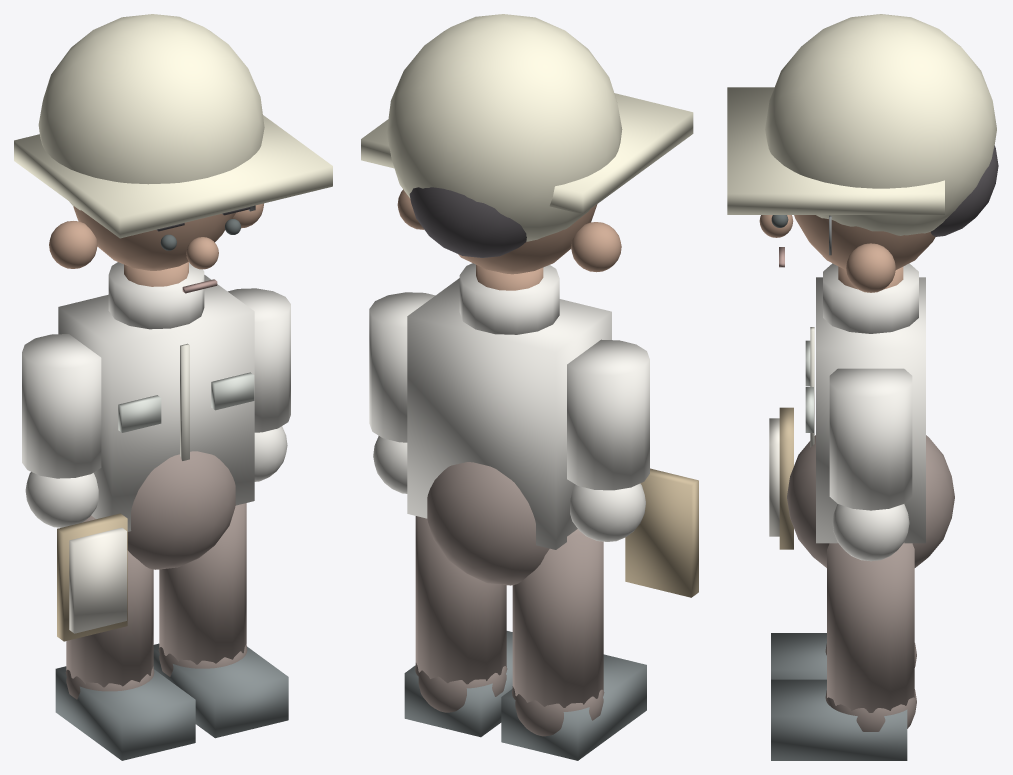
Rendered from mercy_person_11.glb.
3 renders of one model, left to right at view 1: azimuth 30°, elevation 25°; view 2: azimuth 150°, elevation 25°; view 3: azimuth 270°, elevation 25°, orthographic. The views are drawn at different scales.
Parts seen in each view (by area): view 1: SkinClothing_8, SkinClothing_0, Arm_Left, Leg_Right, SkinClothing_1, Boot_Left, SkinClothing_2, Boot_Right, Leg_Left, Arm_Right, SkinClothing_11, SkinClothing_10 (+2 smaller); view 2: SkinClothing_8, SkinClothing_0, Leg_Left, Arm_Left, Leg_Right, SkinClothing_1, SkinClothing_10, Arm_Right, Boot_Left, SkinClothing_2, SkinClothing_6, Boot_Right; view 3: SkinClothing_8, SkinClothing_0, Arm_Right, Leg_Right, Boot_Right, SkinClothing_2, SkinClothing_1, Boot_Left, SkinClothing_10, SkinClothing_6, SkinClothing_11, SkinClothing_4.
Boxes of the visible parts, x1,y1,x2,y2 form: SkinClothing_8: (14, 14, 332, 238); SkinClothing_0: (58, 262, 254, 531); Arm_Left: (22, 334, 101, 527); Leg_Right: (158, 503, 247, 676); SkinClothing_1: (127, 451, 235, 569); Boot_Left: (55, 666, 195, 760); SkinClothing_2: (49, 203, 263, 286); Boot_Right: (153, 643, 288, 738); Leg_Left: (65, 515, 154, 699); Arm_Right: (228, 288, 290, 481); SkinClothing_11: (69, 527, 126, 633); SkinClothing_10: (57, 513, 127, 641); SkinClothing_8: (361, 14, 693, 241); SkinClothing_0: (407, 263, 611, 549); Leg_Left: (512, 529, 604, 736); Arm_Left: (567, 339, 649, 541); Leg_Right: (415, 516, 507, 712); SkinClothing_1: (427, 462, 549, 585); SkinClothing_10: (625, 468, 698, 597); Arm_Right: (369, 292, 435, 493); Boot_Left: (501, 654, 646, 760); SkinClothing_2: (397, 189, 621, 290); SkinClothing_6: (409, 187, 526, 257); Boot_Right: (404, 631, 512, 737); SkinClothing_8: (727, 14, 996, 235); SkinClothing_0: (816, 263, 925, 543); Arm_Right: (829, 368, 912, 561); Leg_Right: (825, 542, 916, 731); Boot_Right: (771, 679, 907, 760); SkinClothing_2: (759, 215, 935, 292); SkinClothing_1: (787, 435, 954, 567); Boot_Left: (771, 633, 826, 679); SkinClothing_10: (779, 407, 793, 549); SkinClothing_6: (931, 145, 998, 236); SkinClothing_11: (769, 418, 779, 536); SkinClothing_4: (805, 340, 813, 432).
Bounding box in the file's own units: 1.01 × 2.46 × 0.8685.
